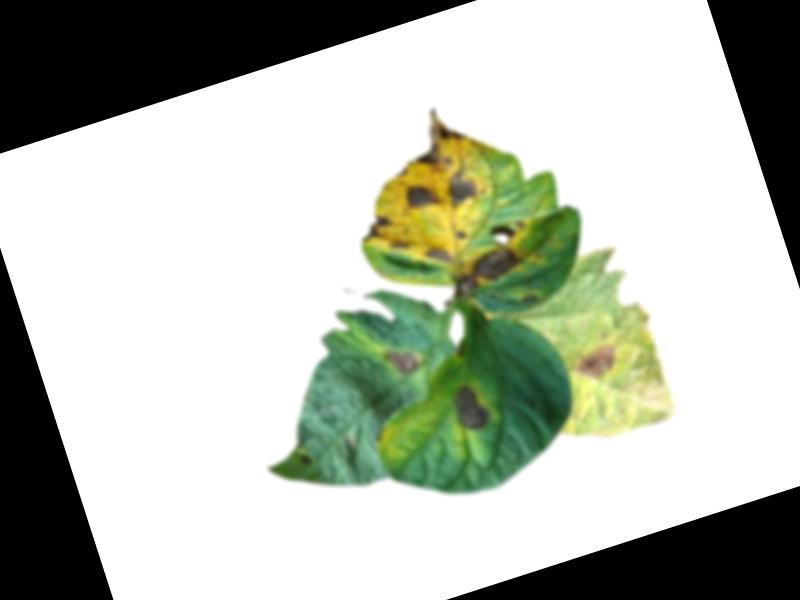Early_blight: (405, 99, 476, 178), (444, 242, 528, 303), (446, 380, 492, 438), (568, 341, 622, 386), (439, 164, 489, 212), (397, 177, 442, 218), (381, 341, 423, 383), (354, 209, 396, 245), (420, 240, 455, 272), (386, 237, 412, 256), (296, 452, 313, 467), (454, 230, 467, 243)
